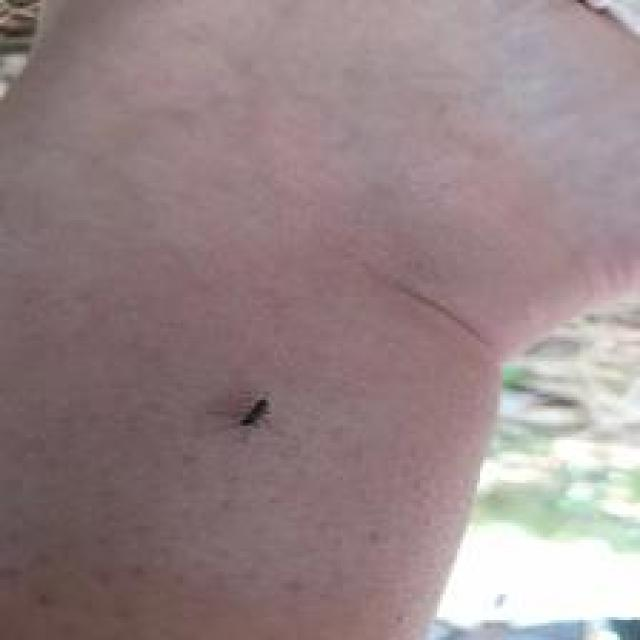Aedes albopictus: (239, 397, 270, 429)
